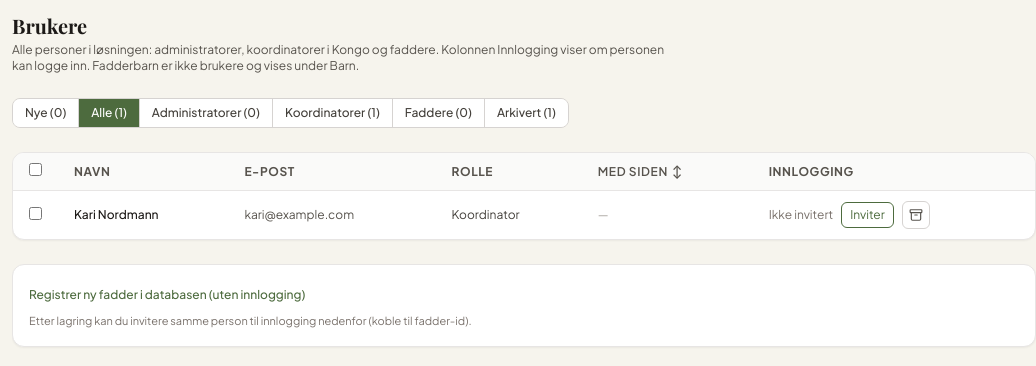
brukerlisten: kolonnen Med siden › arkivert fadder viser perioden fra–til
Click the button "Arkivert (1)".
click(526, 113)  # box [485,99,568,127]
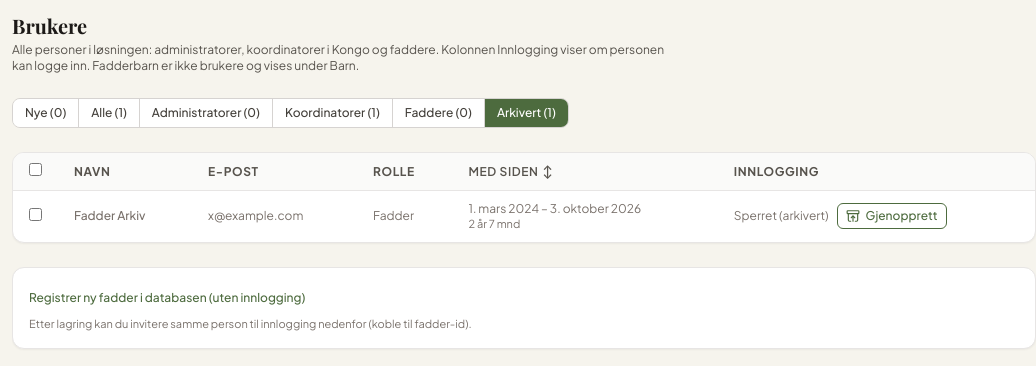
Now the text "1. mars 2024 – 3. oktober 2026" is shown, box [468,201,641,216]
